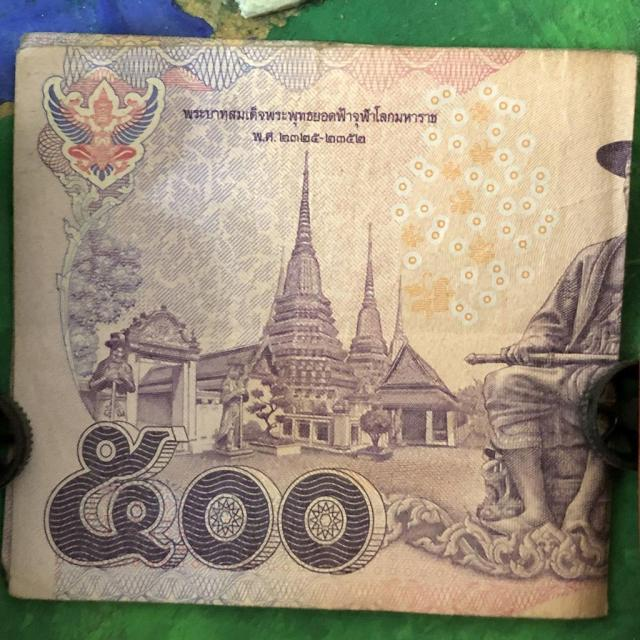THAI500: (0, 33, 637, 619)
